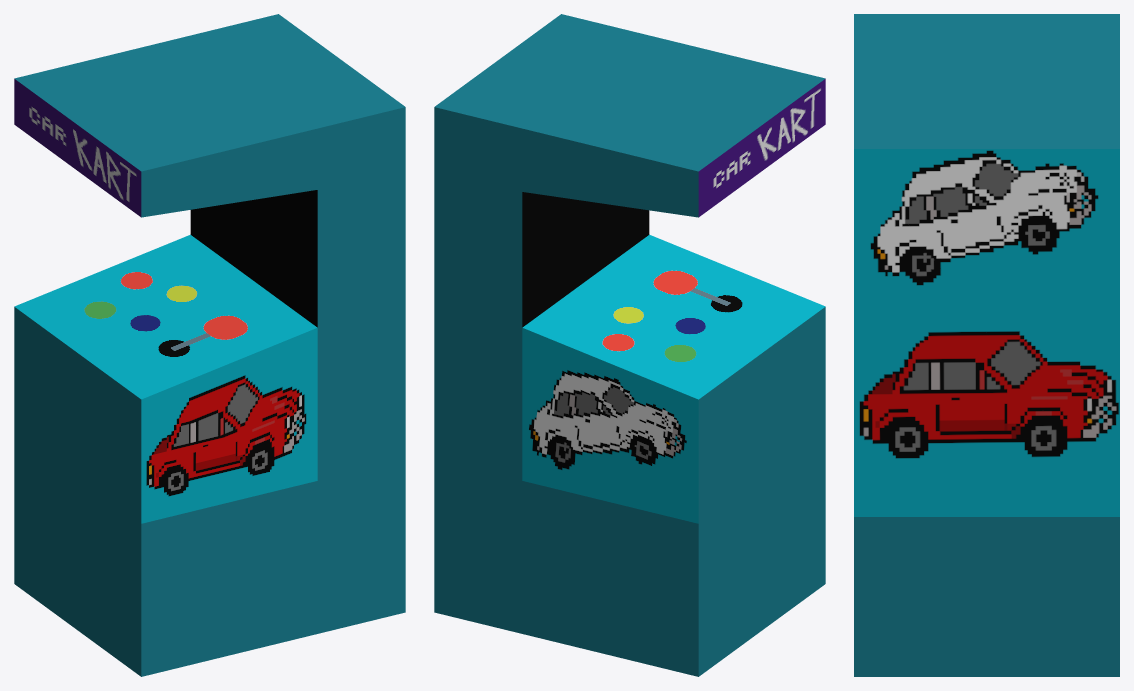
File: Cabinet.glb
3 renders of one model, left to right at view 1: azimuth 30°, elevation 25°; view 2: azimuth 150°, elevation 25°; view 3: azimuth 270°, elevation 25°, orthographic. The views are drawn at different scales.
Parts seen in each view (by area): view 1: Cabinet; view 2: Cabinet; view 3: Cabinet.
Part boxes in pixels (x1,y1,x2,y2): Cabinet: [14, 14, 405, 676]; Cabinet: [434, 14, 825, 676]; Cabinet: [854, 14, 1119, 676].
Bounding box in the file's own units: 4.45 × 8.13 × 3.71.
Materials: 5 (3 with a texture image).
